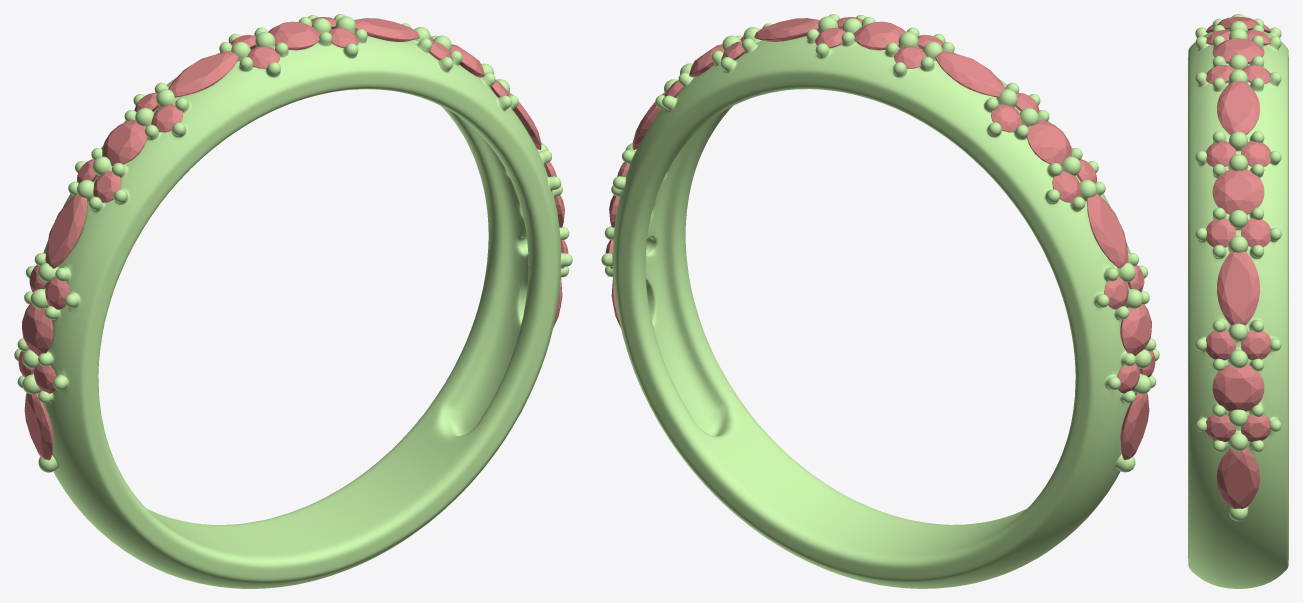
Rendered from BE2D480LC_RENDER.glb.
3 renders of one model, left to right at view 1: azimuth 30°, elevation 25°; view 2: azimuth 150°, elevation 25°; view 3: azimuth 270°, elevation 25°, orthographic. The views are drawn at different scales.
Visible parts, largest first — view 1: Metal03, Diamond_Marquise_Gem_BD.004, Diamond_Marquise_Gem_BD.003, Diamond_Round_Gem_BD.014, Diamond_Marquise_Gem_BD.005, Diamond_Round_Gem_BD.019, Diamond_Round_Gem_BD.024, Diamond_Marquise_Gem_BD.002; view 2: Metal03, Diamond_Marquise_Gem_BD.004, Diamond_Marquise_Gem_BD.003, Diamond_Round_Gem_BD.014, Diamond_Marquise_Gem_BD.005, Diamond_Round_Gem_BD.019, Diamond_Round_Gem_BD.024, Diamond_Marquise_Gem_BD.002; view 3: Metal03, Diamond_Marquise_Gem_BD.001, Diamond_Marquise_Gem_BD, Diamond_Round_Gem_BD.004, Diamond_Round_Gem_BD.009, Diamond_Marquise_Gem_BD.002, Diamond_Round_Gem_BD.024, Diamond_Round_Gem_BD.002, Diamond_Round_Gem_BD.003, Diamond_Round_Gem_BD.005, Diamond_Round_Gem_BD.006, Diamond_Round_Gem_BD (+8 smaller).
Boxes of the visible parts, x1,y1,x2,y2 form: Metal03: [14, 14, 572, 588]; Diamond_Marquise_Gem_BD.004: [45, 193, 87, 268]; Diamond_Marquise_Gem_BD.003: [168, 50, 238, 97]; Diamond_Round_Gem_BD.014: [102, 120, 147, 165]; Diamond_Marquise_Gem_BD.005: [24, 393, 53, 460]; Diamond_Round_Gem_BD.019: [22, 304, 53, 356]; Diamond_Round_Gem_BD.024: [268, 21, 320, 50]; Diamond_Marquise_Gem_BD.002: [354, 18, 419, 41]; Metal03: [601, 14, 1159, 588]; Diamond_Marquise_Gem_BD.004: [1086, 193, 1128, 268]; Diamond_Marquise_Gem_BD.003: [935, 50, 1005, 97]; Diamond_Round_Gem_BD.014: [1026, 120, 1071, 165]; Diamond_Marquise_Gem_BD.005: [1120, 393, 1149, 459]; Diamond_Round_Gem_BD.019: [1120, 304, 1151, 355]; Diamond_Round_Gem_BD.024: [853, 21, 905, 50]; Diamond_Marquise_Gem_BD.002: [754, 18, 819, 41]; Metal03: [1188, 14, 1288, 588]; Diamond_Marquise_Gem_BD.001: [1217, 251, 1259, 325]; Diamond_Marquise_Gem_BD: [1217, 448, 1259, 508]; Diamond_Round_Gem_BD.004: [1212, 364, 1264, 411]; Diamond_Round_Gem_BD.009: [1212, 169, 1264, 214]; Diamond_Marquise_Gem_BD.002: [1217, 81, 1259, 134]; Diamond_Round_Gem_BD.024: [1212, 38, 1264, 63]; Diamond_Round_Gem_BD.002: [1206, 330, 1235, 360]; Diamond_Round_Gem_BD.003: [1241, 330, 1270, 360]; Diamond_Round_Gem_BD.005: [1241, 218, 1271, 247]; Diamond_Round_Gem_BD.006: [1205, 218, 1235, 247]; Diamond_Round_Gem_BD: [1241, 414, 1270, 441].
Bounding box in the file's own units: 20.46 × 19.93 × 3.5.
